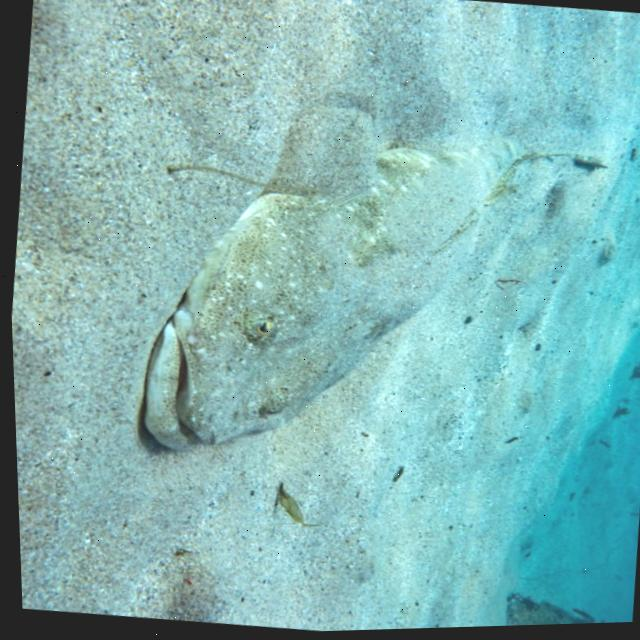Flathead: (119, 83, 635, 504)
